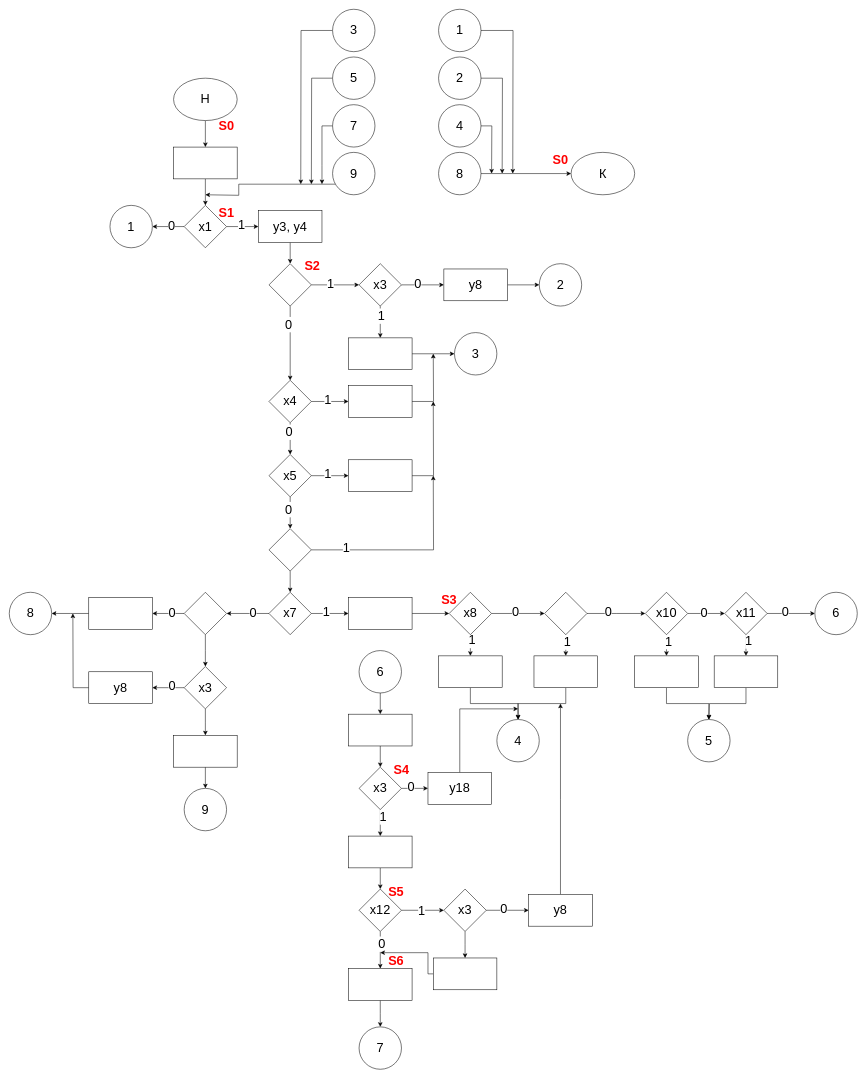
Image size: 867x1079. Some labels were removed from this diagram. The centre of each missing label's shape, as x and y in pixels:
"x13" belongs at pixel 205 613.
"x2" belongs at pixel 289 284.
"x6" belongs at pixel 289 549.
"x9" belongs at pixel 565 613.
"y1, y2" belongs at pixel 205 163.
"y10" belongs at pixel 380 475.
"y11" belongs at pixel 380 613.
"y12" belongs at pixel 470 671.
"y13" belongs at pixel 565 671.
"y14" belongs at pixel 666 671.
"y15" belongs at pixel 746 671.
"y16" belongs at pixel 380 730.
"y17" belongs at pixel 380 852.
"y19" belongs at pixel 465 973.
"y20" belongs at pixel 380 984.
"y21" belongs at pixel 205 751.
"y22" belongs at pixel 120 613.
"y5, y6, y7" belongs at pixel 380 353.
"y9" belongs at pixel 380 401.
